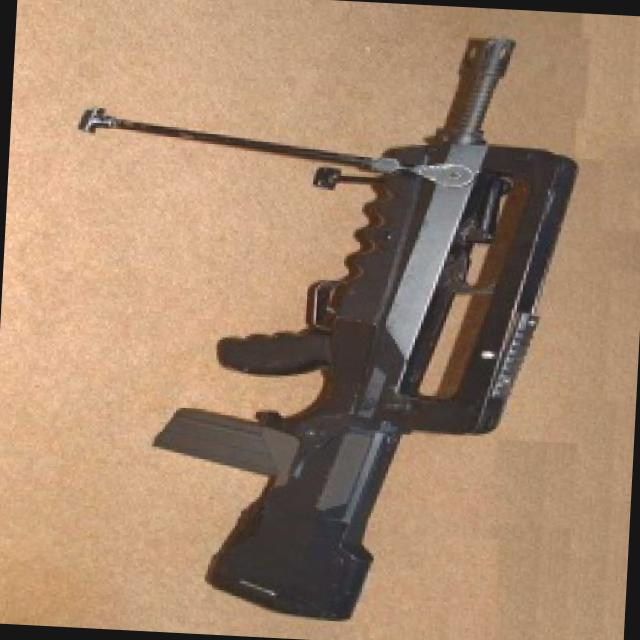long weapon: (178, 9, 566, 639)
